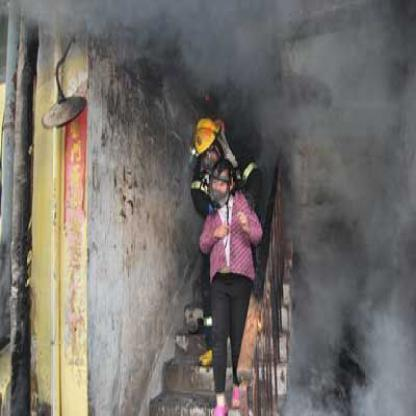smoke: (296, 97, 415, 411), (17, 0, 413, 36), (186, 36, 415, 96)
